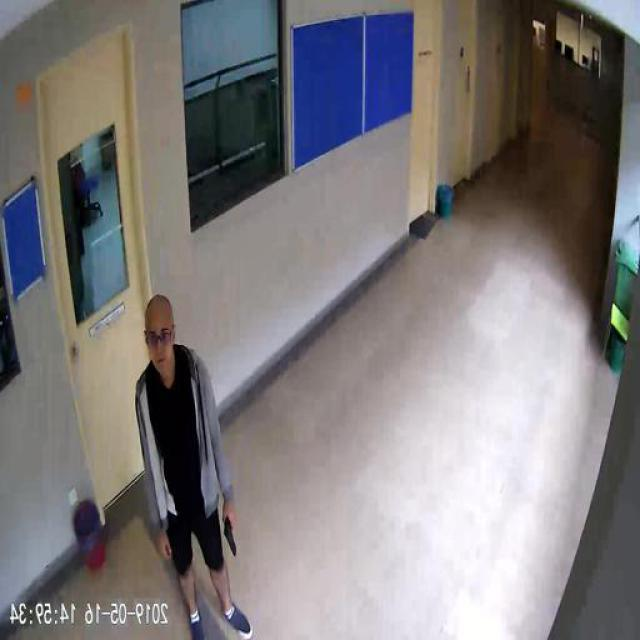Gun: (224, 508, 238, 552)
